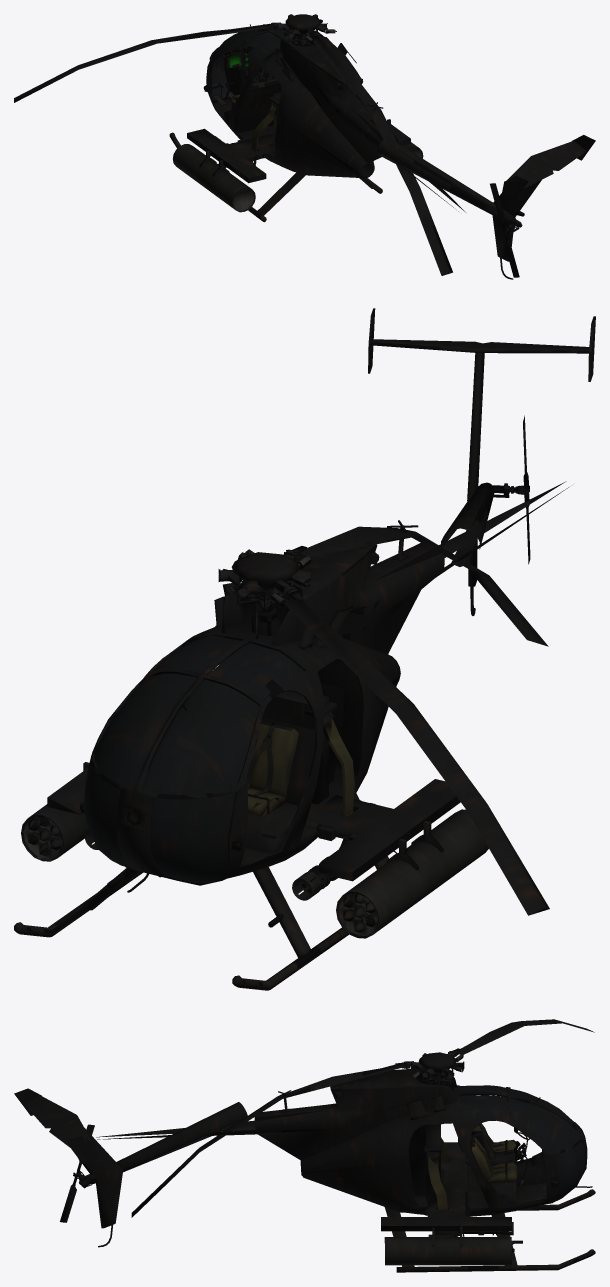
Rendered from littlebird-wreck.glb.
3 views of the same model, one above another, from view 1: azimuth 30°, elevation 25°; view 2: azimuth 150°, elevation 25°; view 3: azimuth 270°, elevation 25° (orthographic). The views are drawn at different scales.
Visible parts, largest first — view 1: hull, rotor; view 2: hull, rotor; view 3: hull, rotor.
Boxes of the visible parts, left/top/right/bottom form: hull: left=169, top=24, right=595, bottom=279; rotor: left=14, top=14, right=452, bottom=275; hull: left=14, top=308, right=595, bottom=990; rotor: left=218, top=526, right=549, bottom=915; hull: left=14, top=1068, right=595, bottom=1272; rotor: left=131, top=1019, right=594, bottom=1217.
Bounding box in the file's own units: 5.61 × 2.8 × 7.9.
Materials: 1 (1 with a texture image).
